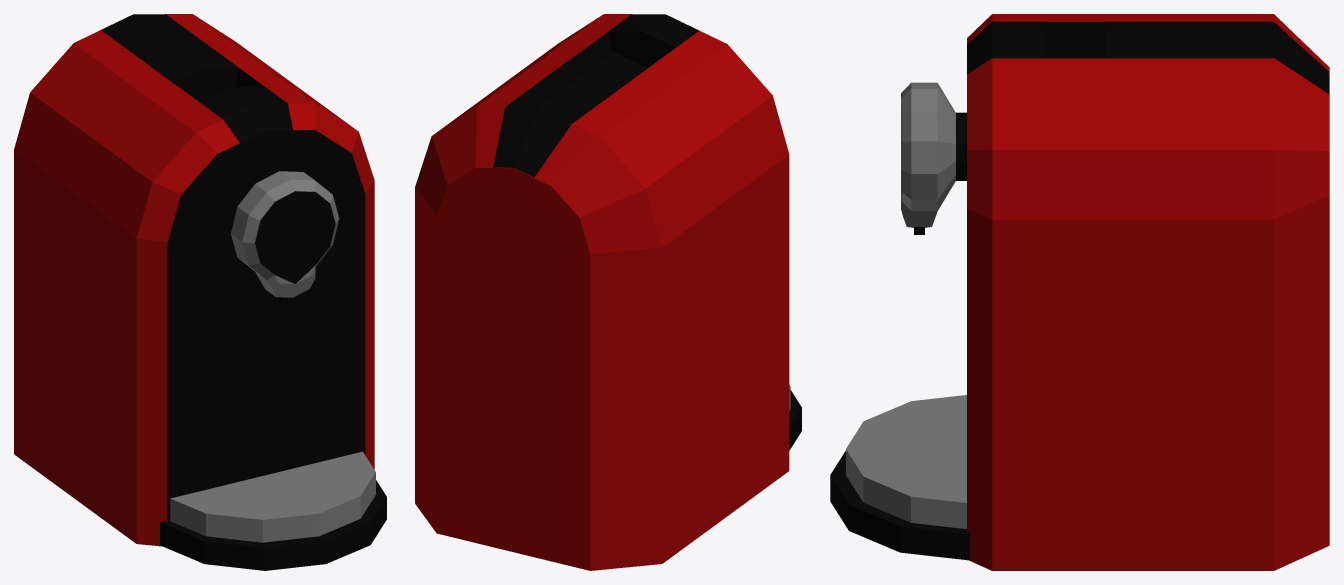
Rendered from CaffèRoomba.fbx.
3 views of the same model, side by side, from view 1: azimuth 30°, elevation 25°; view 2: azimuth 150°, elevation 25°; view 3: azimuth 270°, elevation 25° (orthographic). The views are drawn at different scales.
Visible parts, largest first — view 1: MacchinettaCaffè; view 2: MacchinettaCaffè; view 3: MacchinettaCaffè.
Boxes of the visible parts, x1=… form: MacchinettaCaffè: x1=14, y1=14, x2=386, y2=570; MacchinettaCaffè: x1=415, y1=14, x2=801, y2=570; MacchinettaCaffè: x1=830, y1=14, x2=1329, y2=570.
Size of the model in its own units: 175 by 288 by 275.
